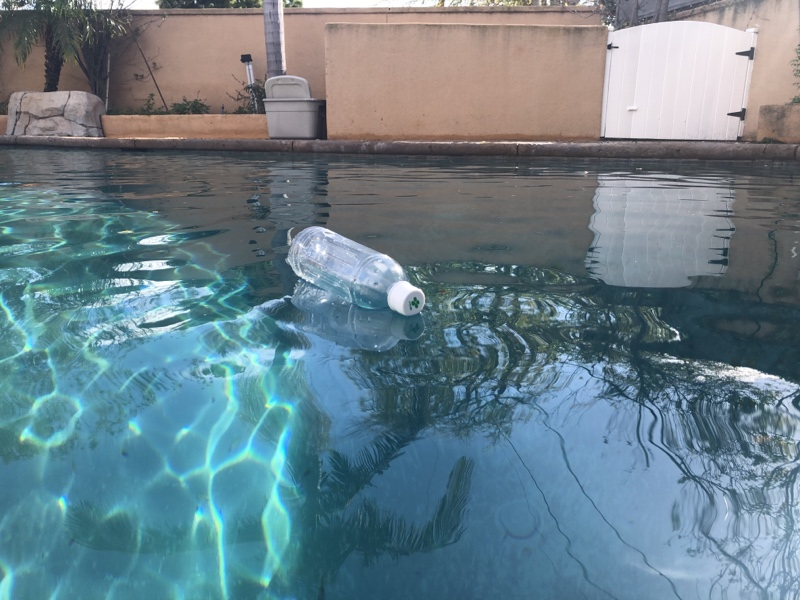Plastic Bottle: (284, 220, 427, 322)
